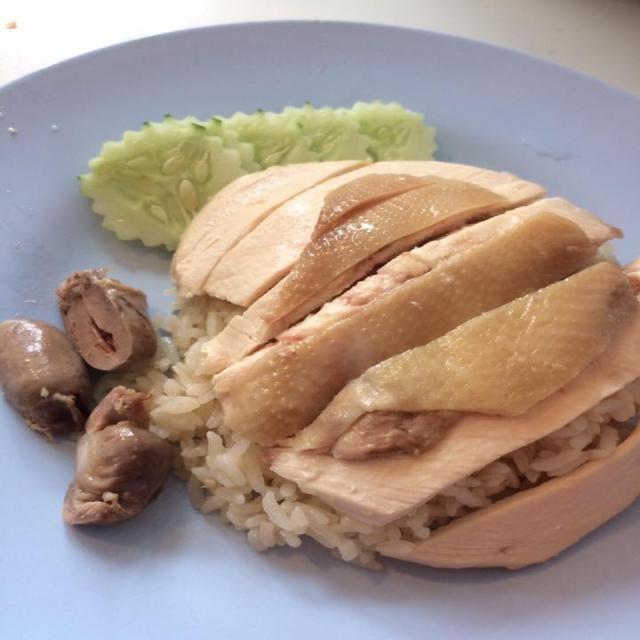Hainanese chicken rice: (43, 136, 633, 578)
carb: (141, 317, 286, 565), (266, 485, 396, 576)
meat: (170, 176, 626, 463)
vegetable: (51, 107, 282, 213)
